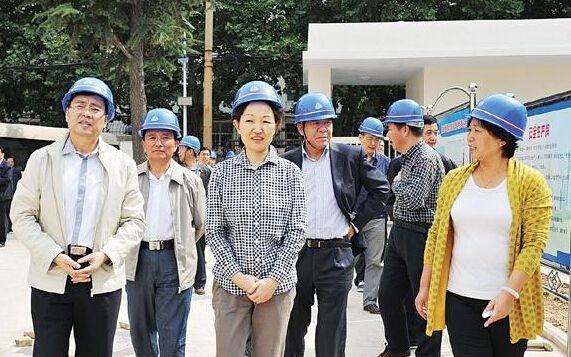blue: (468, 93, 527, 164), (233, 80, 283, 156), (62, 77, 112, 141), (291, 88, 340, 150), (383, 96, 424, 153), (139, 108, 180, 163), (357, 115, 383, 154), (177, 134, 202, 164)
none: (421, 113, 440, 147)
